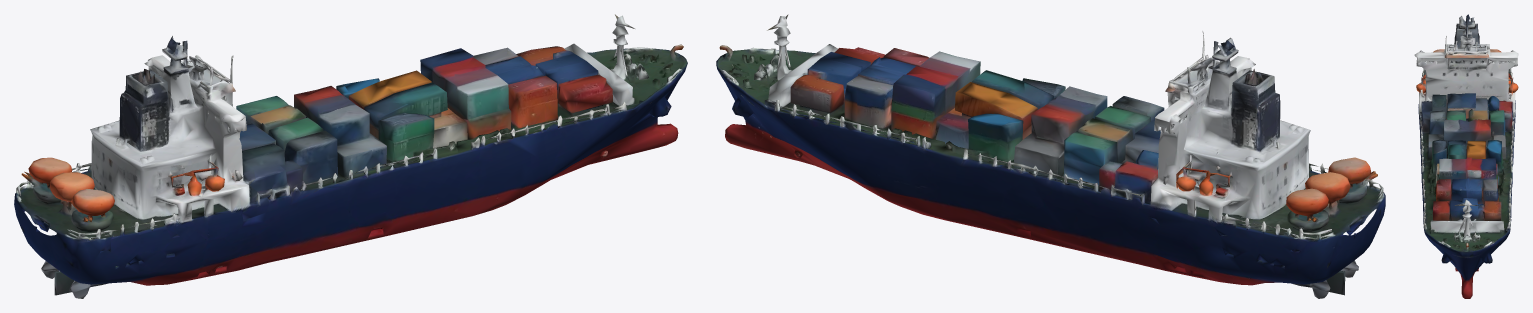
File: cargo_ship.glb
The picture shows the model from 3 angles, left to right: view 1: azimuth 30°, elevation 25°; view 2: azimuth 150°, elevation 25°; view 3: azimuth 270°, elevation 25°; orthographic projection. The views are drawn at different scales.
Visible parts, largest first — view 1: tripo_node_5937cdce-9c37-4721-8c84-a0196a487bec; view 2: tripo_node_5937cdce-9c37-4721-8c84-a0196a487bec; view 3: tripo_node_5937cdce-9c37-4721-8c84-a0196a487bec.
Part boxes in pixels (box(x1,y1,x2,y2)): tripo_node_5937cdce-9c37-4721-8c84-a0196a487bec: box(14, 14, 687, 298); tripo_node_5937cdce-9c37-4721-8c84-a0196a487bec: box(716, 14, 1385, 298); tripo_node_5937cdce-9c37-4721-8c84-a0196a487bec: box(1414, 14, 1518, 298).
Bounding box in the file's own units: 1 × 0.3385 × 0.2308.
Materials: 1 (1 with a texture image).
